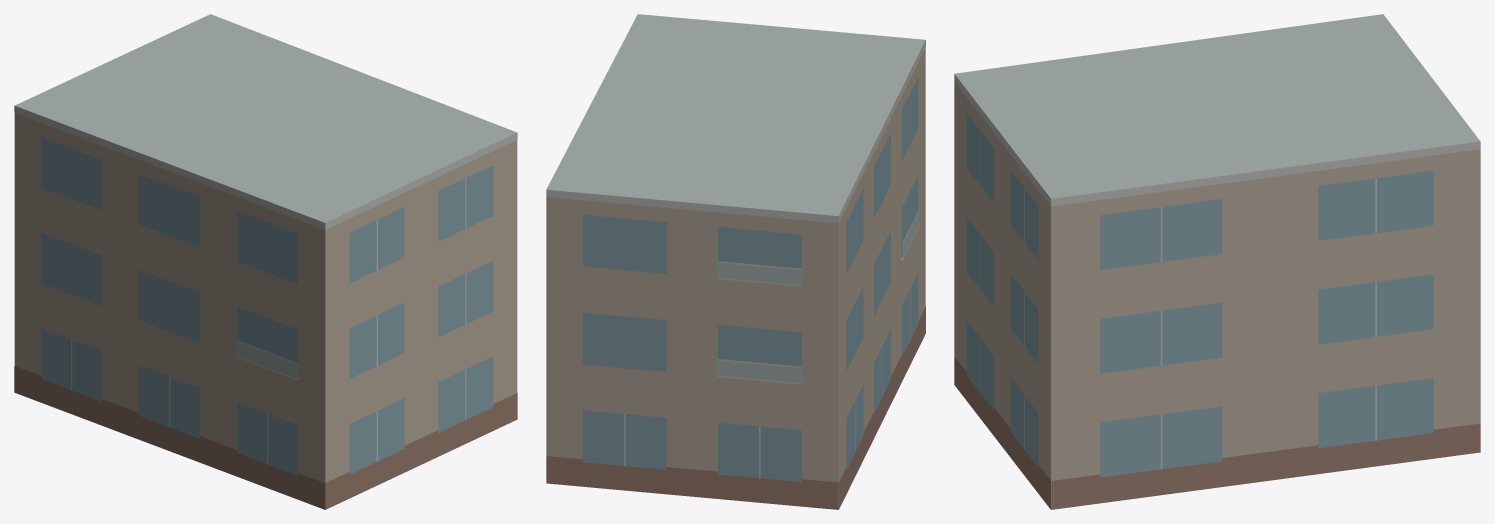
The model's file is survey-upis-32723423.glb.
3 views of the same model, side by side, from view 1: azimuth 30°, elevation 25°; view 2: azimuth 150°, elevation 25°; view 3: azimuth 270°, elevation 25° (orthographic). The views are drawn at different scales.
Parts seen in each view (by area): view 1: survey-upis-32723423.tmp; view 2: survey-upis-32723423.tmp; view 3: survey-upis-32723423.tmp.
Part boxes in pixels (left/top/right/bottom): survey-upis-32723423.tmp: left=14, top=14, right=517, bottom=509; survey-upis-32723423.tmp: left=546, top=14, right=925, bottom=509; survey-upis-32723423.tmp: left=954, top=14, right=1480, bottom=509.
Bounding box in the file's own units: 12.57 × 9.85 × 15.12.
